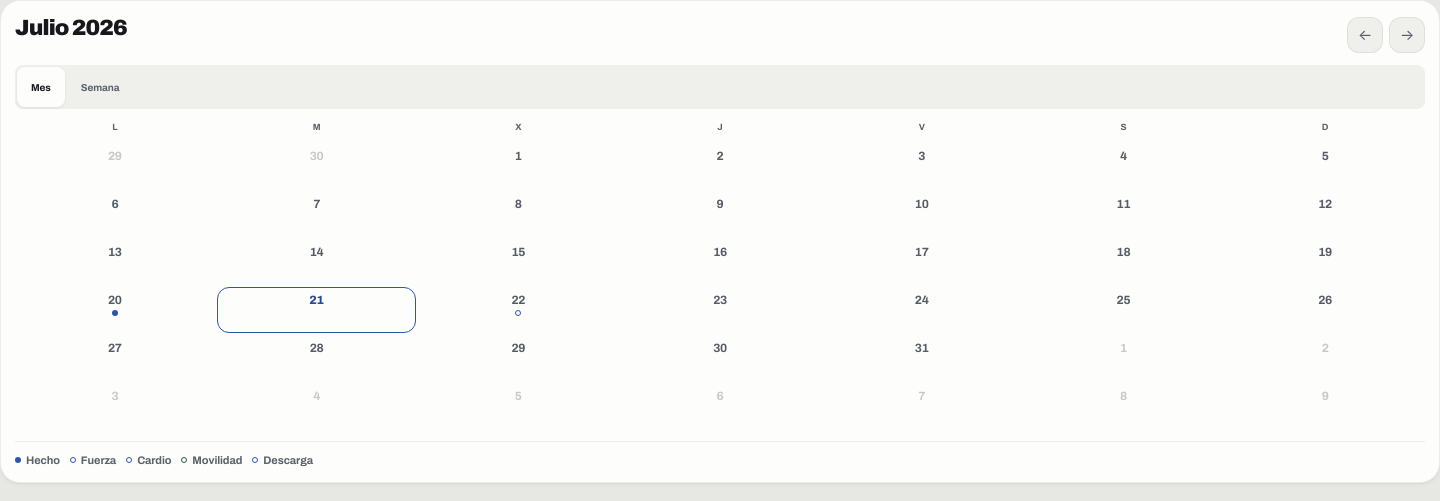
Calendar — vista semana › lee la programación del día en vez de un punto
The image size is (1440, 501).
Step 1. Click the tab "Semana" → (100, 87), box [67, 67, 133, 107]
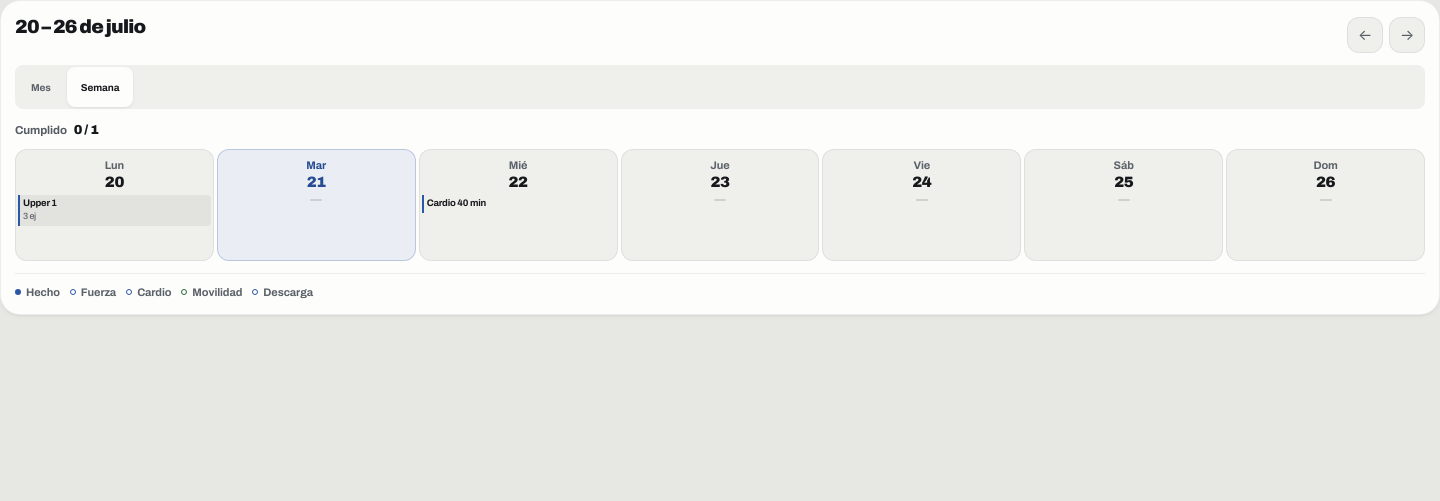
Expected: the text "Upper 1" is shown, [23, 198, 57, 208]
Expected: the text "Cardio 40 min" is shown, [427, 198, 486, 208]
Expected: the text "3 ej" is shown once, [23, 211, 36, 221]
